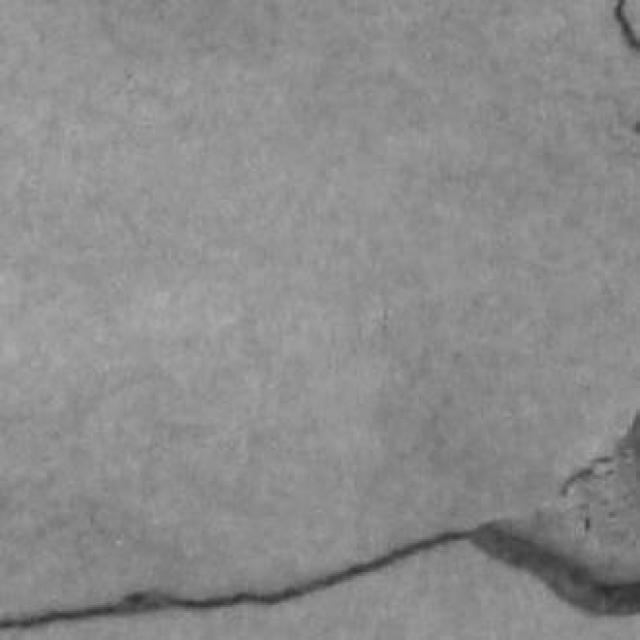crack: (0, 520, 639, 630), (0, 522, 639, 630), (0, 530, 473, 630), (613, 0, 639, 52)
